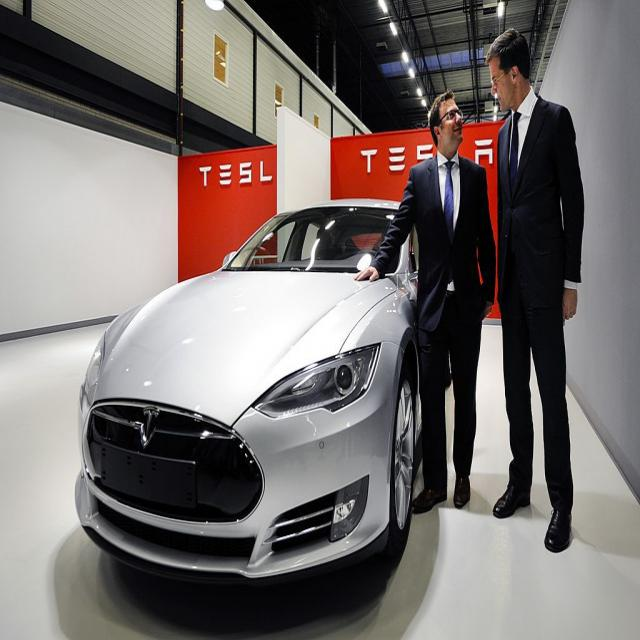car: (67, 168, 380, 580)
person: (486, 25, 588, 558), (376, 100, 492, 512)
